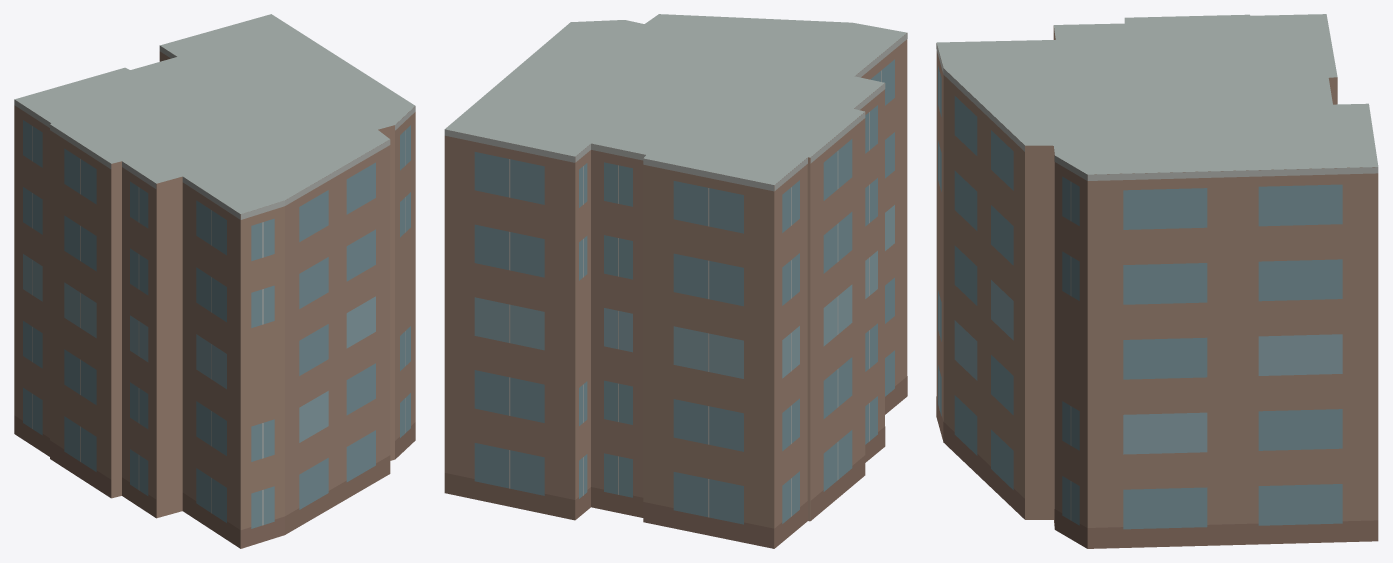
Rendered from survey-upis-32976282.glb.
The picture shows the model from 3 angles, left to right: view 1: azimuth 30°, elevation 25°; view 2: azimuth 150°, elevation 25°; view 3: azimuth 270°, elevation 25°; orthographic projection. The views are drawn at different scales.
Visible parts, largest first — view 1: survey-upis-32976282.tmp; view 2: survey-upis-32976282.tmp; view 3: survey-upis-32976282.tmp.
Part boxes in pixels (box(x1,y1,x2,y2)): survey-upis-32976282.tmp: box(14, 14, 415, 548); survey-upis-32976282.tmp: box(444, 14, 907, 548); survey-upis-32976282.tmp: box(936, 14, 1378, 548).
Bounding box in the file's own units: 13.03 × 14.15 × 15.16.
